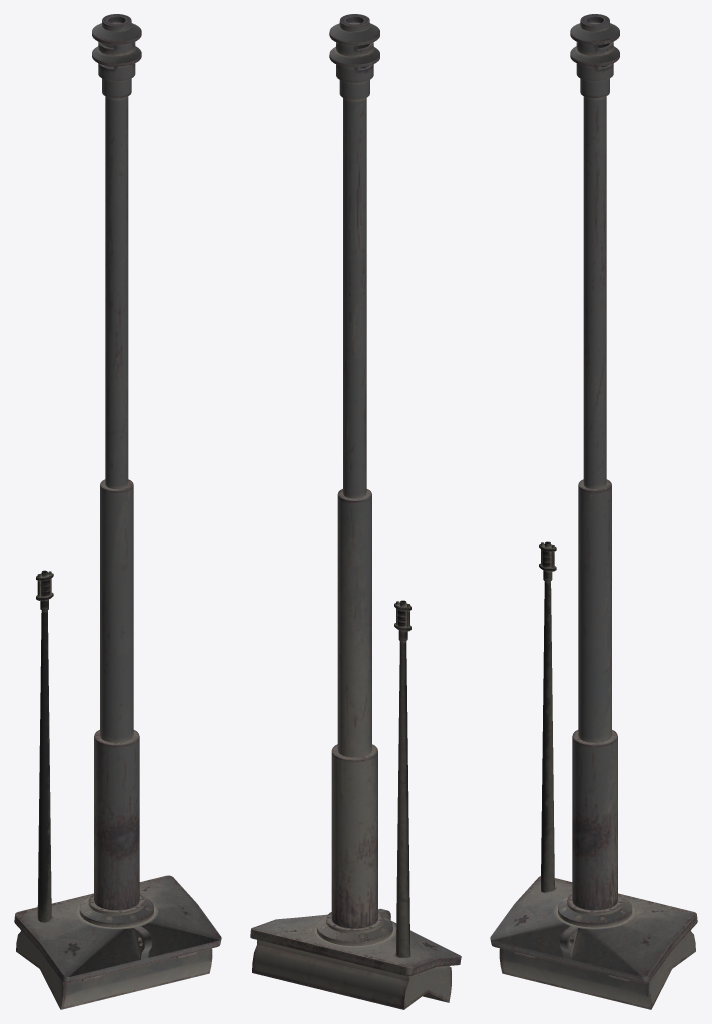
File: Gun_02.glb
3 views of the same model, side by side, from view 1: azimuth 30°, elevation 25°; view 2: azimuth 150°, elevation 25°; view 3: azimuth 330°, elevation 25° (orthographic). The views are drawn at different scales.
Visible parts, largest first — view 1: set_0_group_0; view 2: set_0_group_0; view 3: set_0_group_0.
Part boxes in pixels (x1,y1,x2,y2): set_0_group_0: (14, 14, 221, 1009); set_0_group_0: (250, 14, 461, 1009); set_0_group_0: (490, 14, 697, 1009).
Size of the model in its own units: 0.9109 by 5.29 by 0.5804.
1 material, 1 textured.
